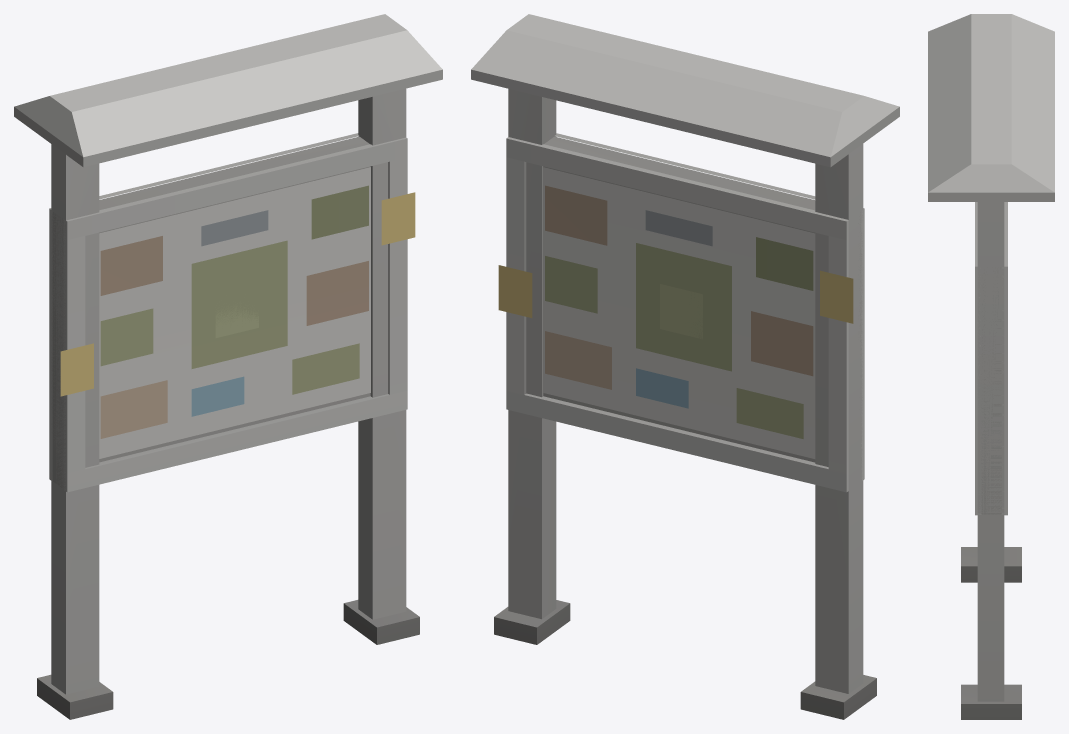
File: mapboard.lod1.glb
3 renders of one model, left to right at view 1: azimuth 30°, elevation 25°; view 2: azimuth 150°, elevation 25°; view 3: azimuth 270°, elevation 25°, orthographic. The views are drawn at different scales.
Size of the model in its own units: 1.5 by 2.4 by 0.5.
